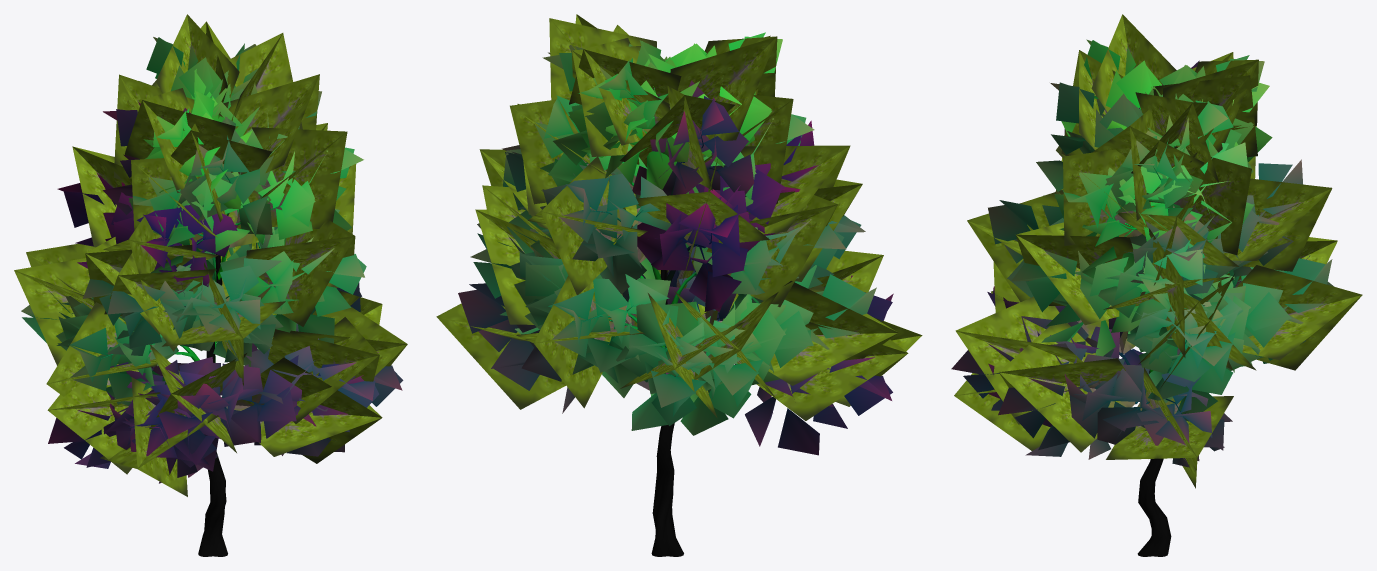
Rendered from Gen02_04Elm01i.fbx.
3 views of the same model, side by side, from view 1: azimuth 30°, elevation 25°; view 2: azimuth 150°, elevation 25°; view 3: azimuth 270°, elevation 25° (orthographic). The views are drawn at different scales.
Visible parts, largest first — view 1: Tree_1, Tree_2, Tree_0; view 2: Tree_2, Tree_1, Tree_0; view 3: Tree_1, Tree_2, Tree_0.
Boxes of the visible parts, x1=… form: Tree_1: x1=14, y1=14, x2=407, y2=496; Tree_2: x1=21, y1=37, x2=403, y2=483; Tree_0: x1=101, y1=139, x2=280, y2=556; Tree_2: x1=458, y1=32, x2=893, y2=455; Tree_1: x1=436, y1=14, x2=922, y2=420; Tree_0: x1=583, y1=90, x2=789, y2=556; Tree_1: x1=954, y1=14, x2=1362, y2=488; Tree_2: x1=951, y1=39, x2=1334, y2=467; Tree_0: x1=1101, y1=166, x2=1236, y2=556.
Bounding box in the file's own units: 69.17 × 84.86 × 62.66.
